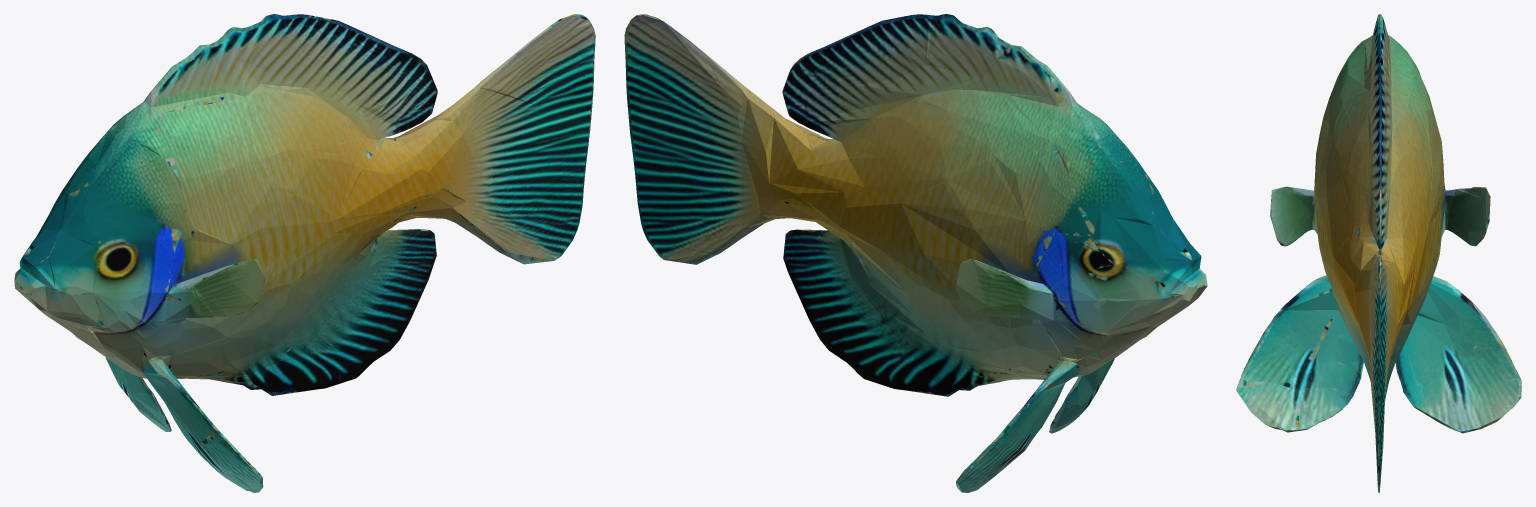
Rendered from fish_0040_smpl23_resized.glb.
3 renders of one model, left to right at view 1: azimuth 30°, elevation 25°; view 2: azimuth 150°, elevation 25°; view 3: azimuth 270°, elevation 25°, orthographic.
Visible parts, largest first — view 1: world; view 2: world; view 3: world.
Boxes of the visible parts, left/top/right/bottom form: world: left=14, top=14, right=595, bottom=492; world: left=624, top=14, right=1207, bottom=492; world: left=1236, top=14, right=1521, bottom=492.
Size of the model in its own units: 1.99 by 1.41 by 0.8463.
1 material, 1 textured.
